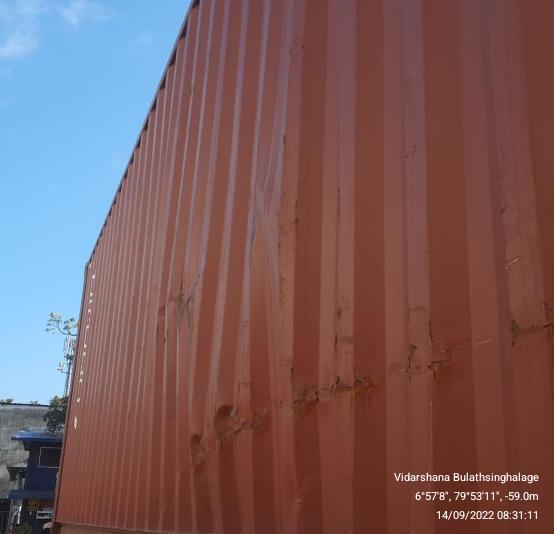moderate: (122, 181, 466, 445)
